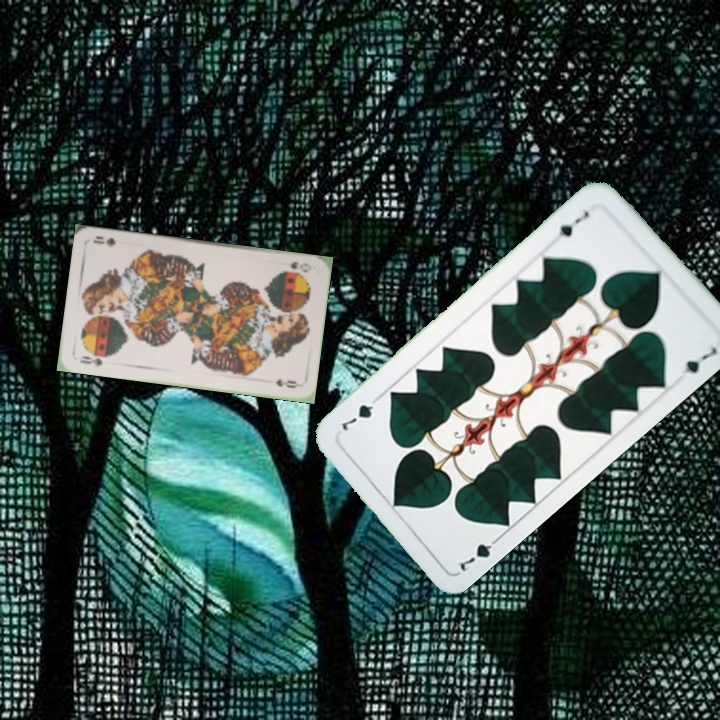G7: (452, 531, 504, 574), (554, 206, 592, 240)
SO: (277, 258, 314, 276), (76, 352, 105, 369)
